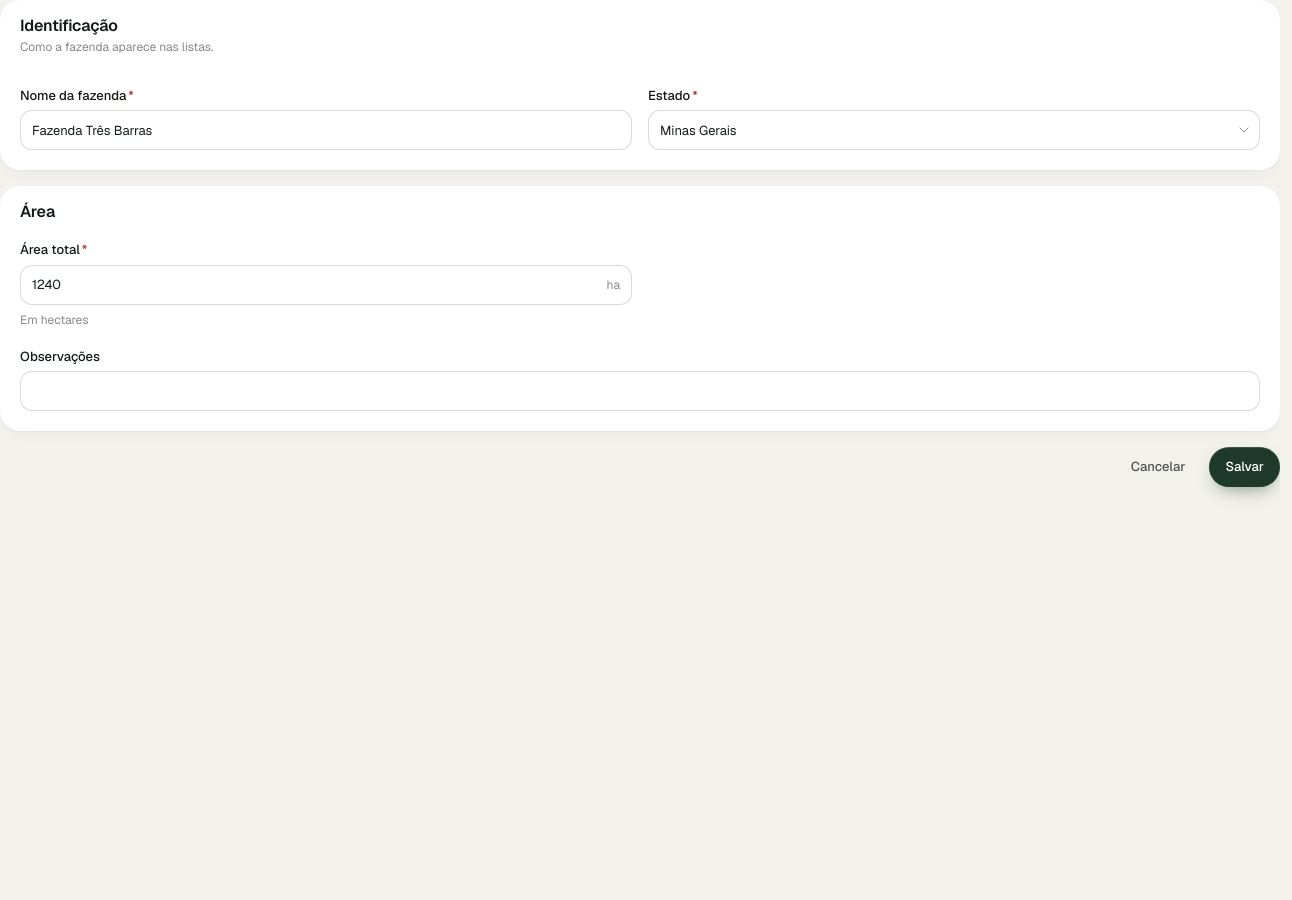
Test: EntityForm › erro do servidor para campo fora do formulário entra no erro geral
Click the button "Salvar": click(1245, 467) [1210,447,1280,487]
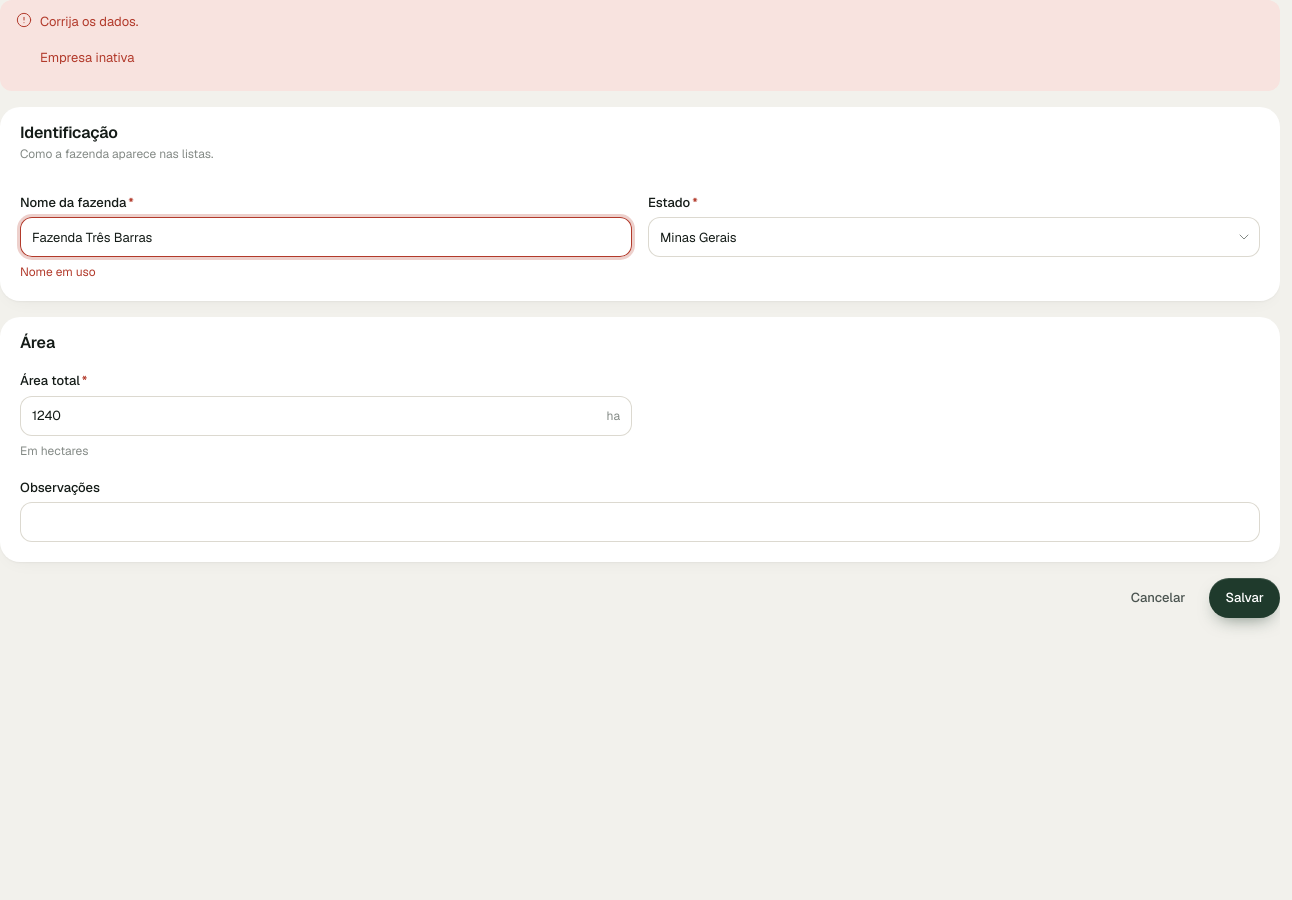
Expected: the message does not show "Nome em uso", [0,0,1280,91]
Now the message shows "Corrija os dados.", box [40,13,138,30]
Now the message shows "Empresa inativa", box [40,48,134,66]
